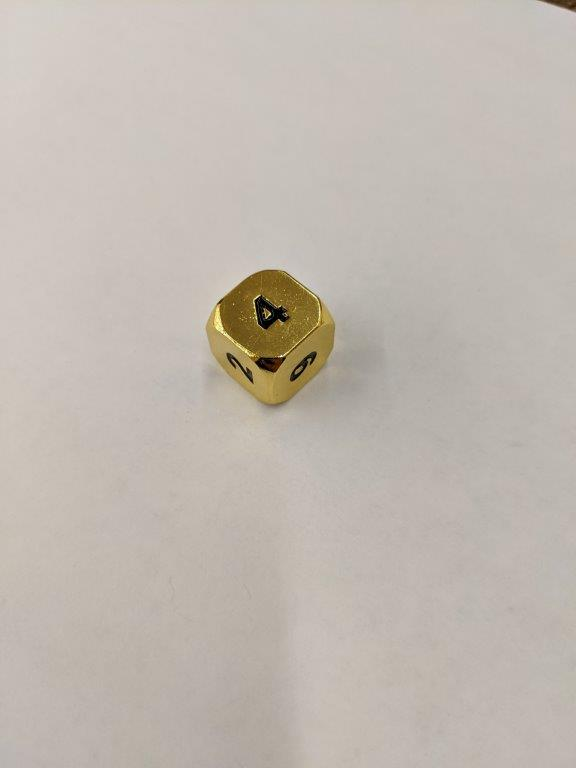d6-4: (205, 270, 336, 407)
